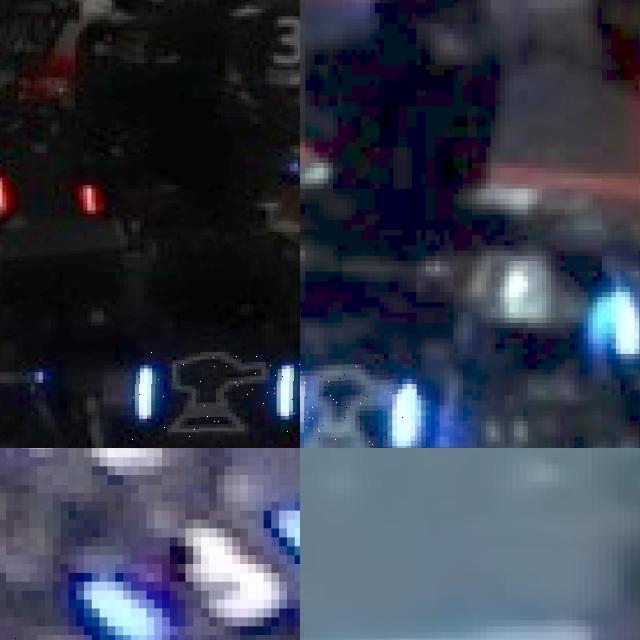B3: (76, 502, 300, 640)
Bs: (132, 350, 300, 440), (300, 364, 416, 448)
